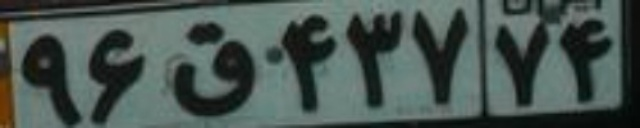3: (345, 10, 404, 108)
4: (281, 12, 339, 113), (557, 16, 612, 102)
5: (85, 29, 146, 124)
7: (411, 5, 469, 105), (492, 18, 550, 107)
9: (17, 32, 82, 126)
ghaf: (168, 22, 258, 117)
